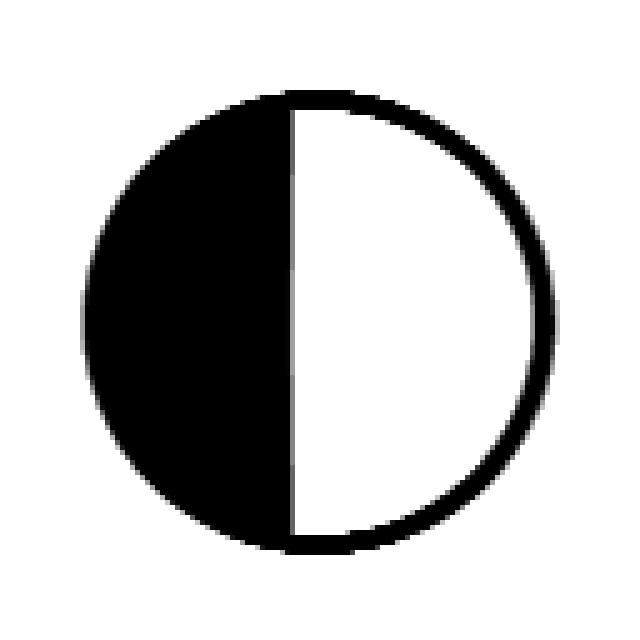O: (80, 90, 560, 560)
